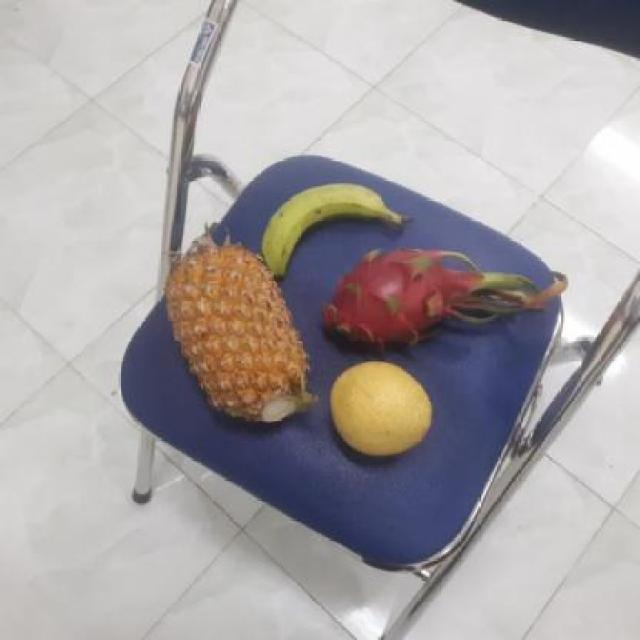banana: (252, 182, 397, 270)
dragon fruit: (316, 248, 486, 354)
pear: (324, 362, 436, 460)
pineapple: (160, 245, 314, 423)
